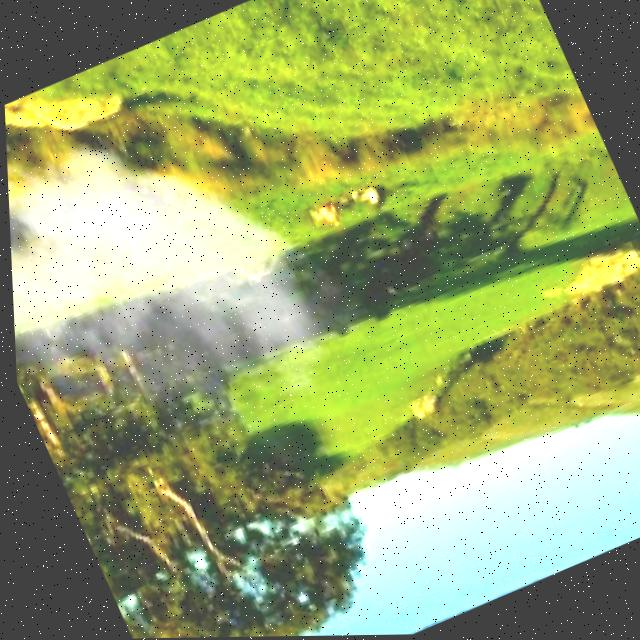Smoke: (5, 35, 415, 550)
